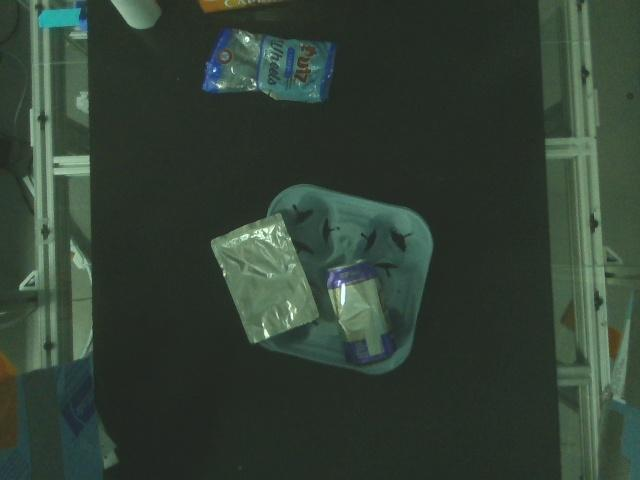cardboard: (254, 182, 434, 373), (108, 0, 163, 32), (194, 0, 290, 17)
metal: (327, 260, 397, 366)
plastic: (210, 211, 321, 344), (200, 29, 338, 105)
